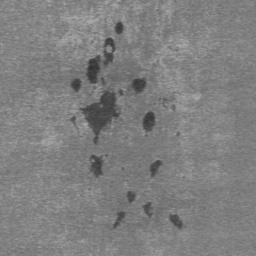Iron scale compression: (66, 78, 146, 143), (73, 23, 124, 91), (89, 154, 104, 177), (149, 159, 163, 180), (143, 112, 154, 132), (114, 212, 126, 229), (169, 213, 182, 227), (142, 203, 153, 216), (126, 192, 135, 203)
